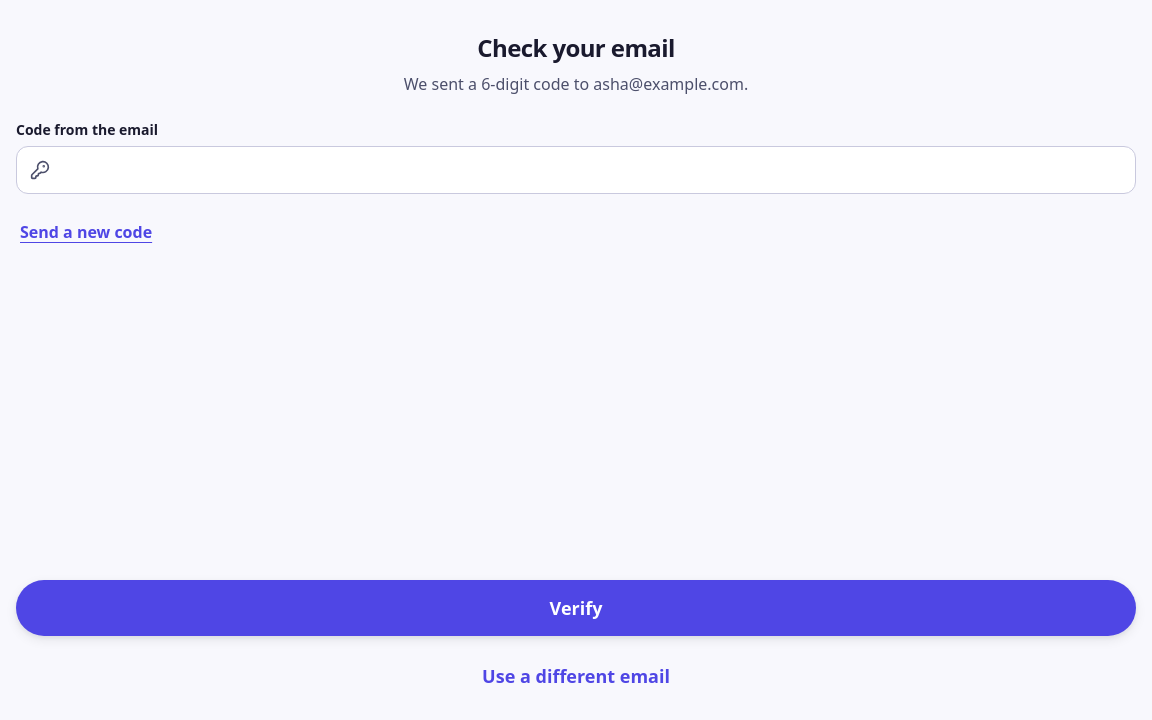
Test: VerifyEmailPage › wants six digits before it asks the server
Type "12 34" into the field labelled "Code from the email".
click(576, 170); type("12 34")  # box [16,146,1136,194]
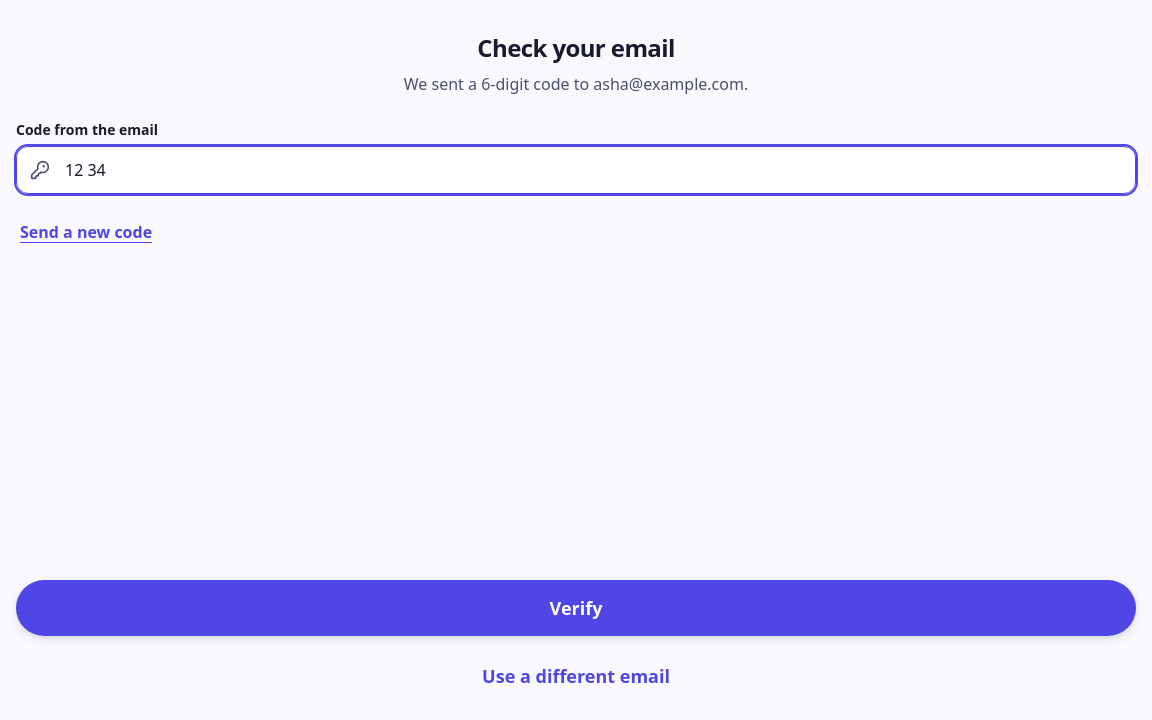
Click the button "Verify".
click(576, 608)  # box [16,580,1136,636]
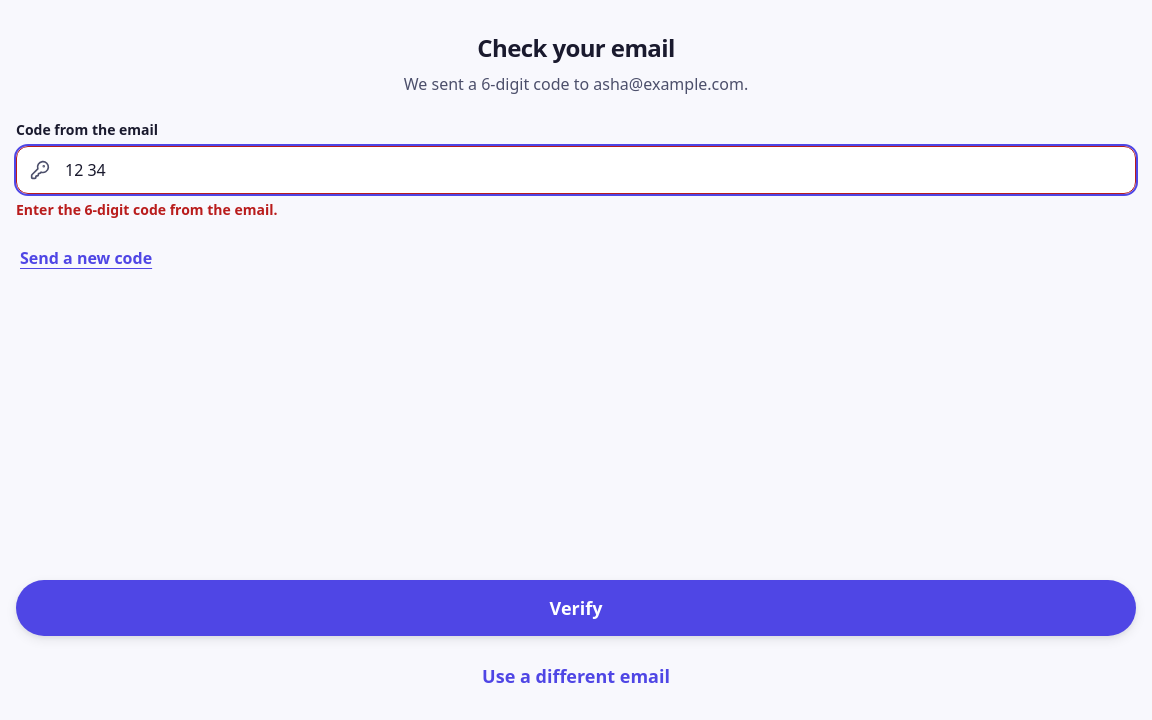
Expected: the text "Enter the 6-digit code from the email." is shown, [16,200,278,219]
